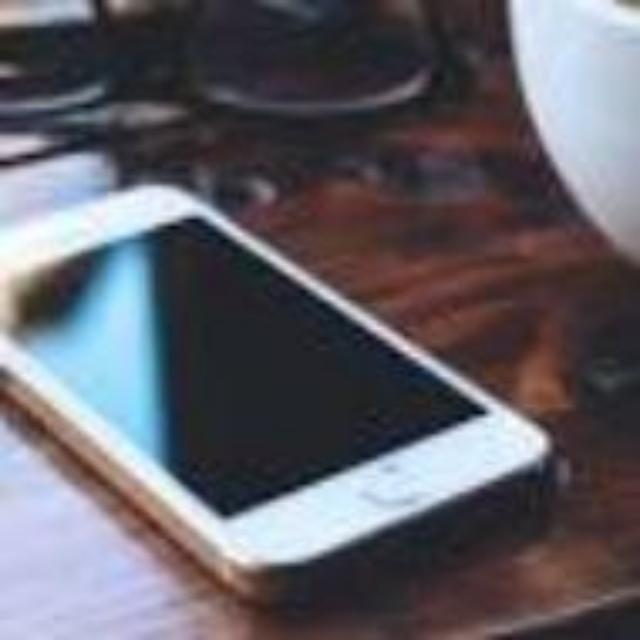phone: (0, 163, 627, 605)
